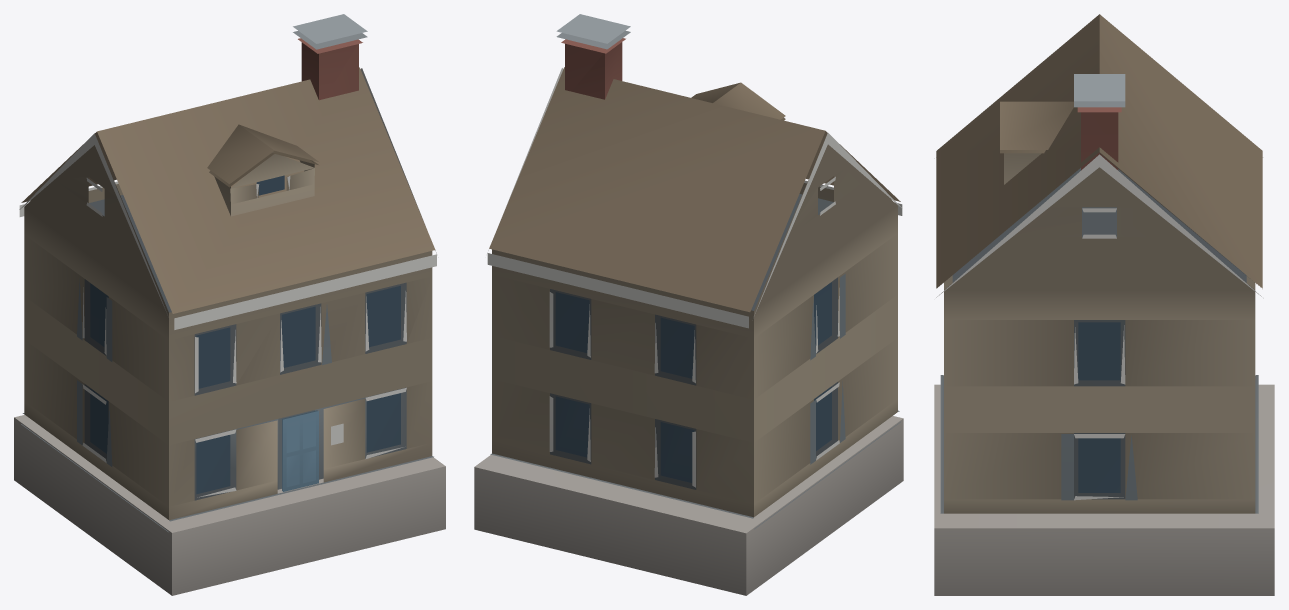
Rendered from villa.lod.glb.
3 renders of one model, left to right at view 1: azimuth 30°, elevation 25°; view 2: azimuth 150°, elevation 25°; view 3: azimuth 270°, elevation 25°, orthographic. The views are drawn at different scales.
Parts seen in each view (by area): view 1: villa; view 2: villa; view 3: villa.
Boxes of the visible parts, <box> form: villa: <box>14,14,445,595</box>; villa: <box>474,14,903,595</box>; villa: <box>934,14,1274,595</box>.
Size of the model in its own units: 6.98 by 11.02 by 6.98.
